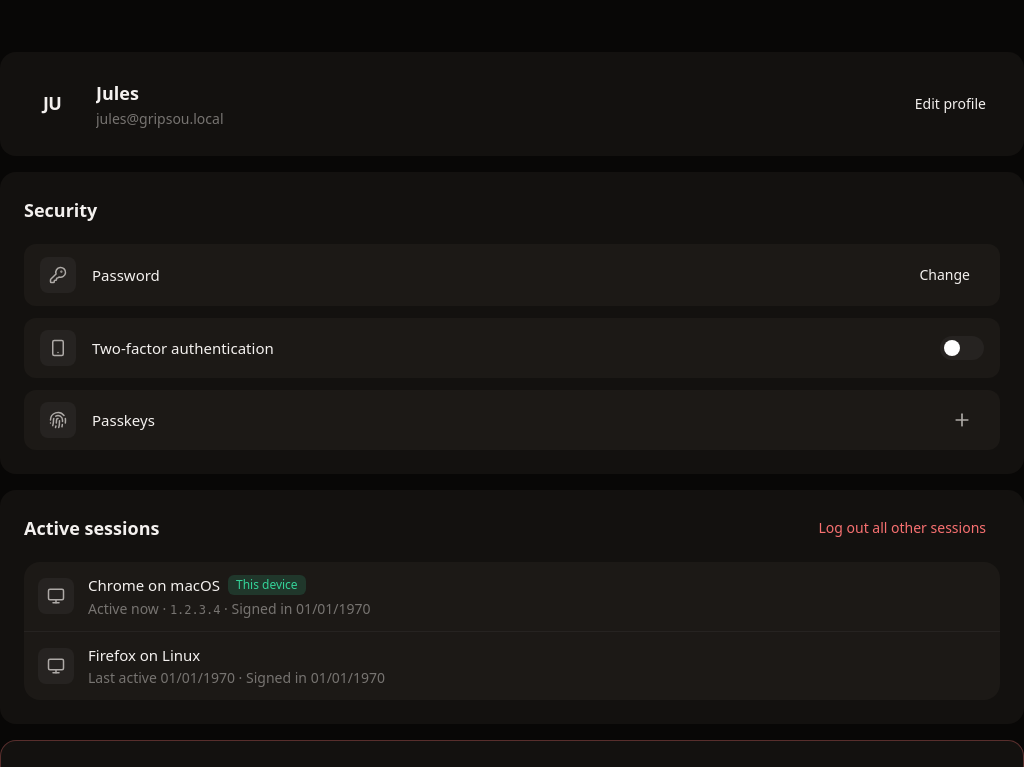
it: SettingsAccount two-factor row › opens the setup window when the switch is turned on
The image size is (1024, 767).
Click the switch named "Two-factor authentication" at [962, 348], box [940,336,984,360]
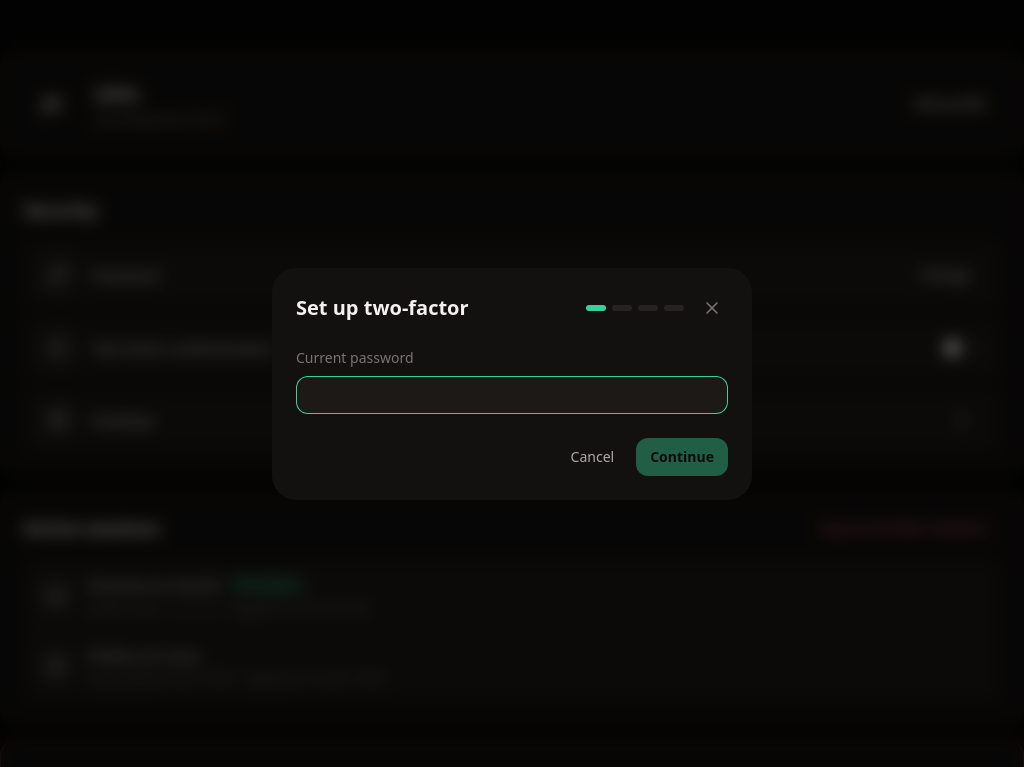
Expected: the dialog "Set up two-factor" is shown, [272,268,752,500]
